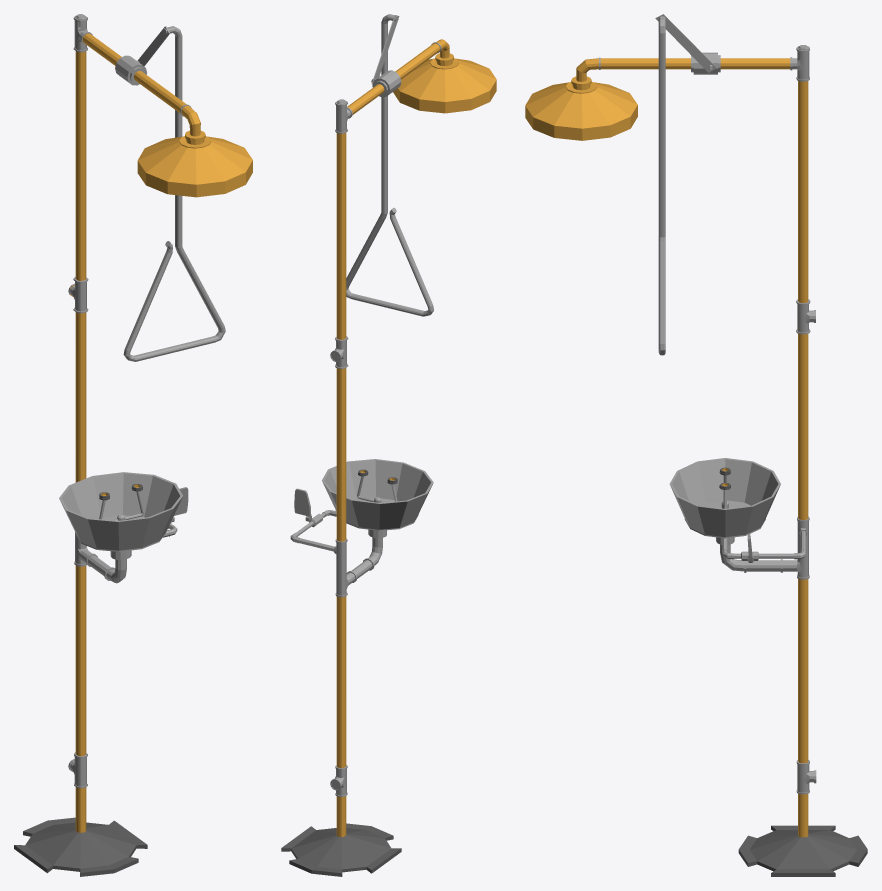
File: safety_shower_new.fbx
The picture shows the model from 3 angles, left to right: view 1: azimuth 30°, elevation 25°; view 2: azimuth 150°, elevation 25°; view 3: azimuth 270°, elevation 25°; orthographic projection. The views are drawn at different scales.
Visible parts, largest first — view 1: main_safety_shower, hanging_lever; view 2: main_safety_shower, hanging_lever, eye_wash_lever; view 3: main_safety_shower, hanging_lever, lever_attachment.
Part boxes in pixels (x1,y1,x2,y2): main_safety_shower: (14,14,252,876); hanging_lever: (123,26,225,361); main_safety_shower: (281,39,496,876); hanging_lever: (346,14,433,316); eye_wash_lever: (294,488,312,521); main_safety_shower: (525,45,867,876); hanging_lever: (658,16,665,355); lever_attachment: (655,14,716,72).
Bounding box in the file's own units: 44.58 × 277 × 102.
